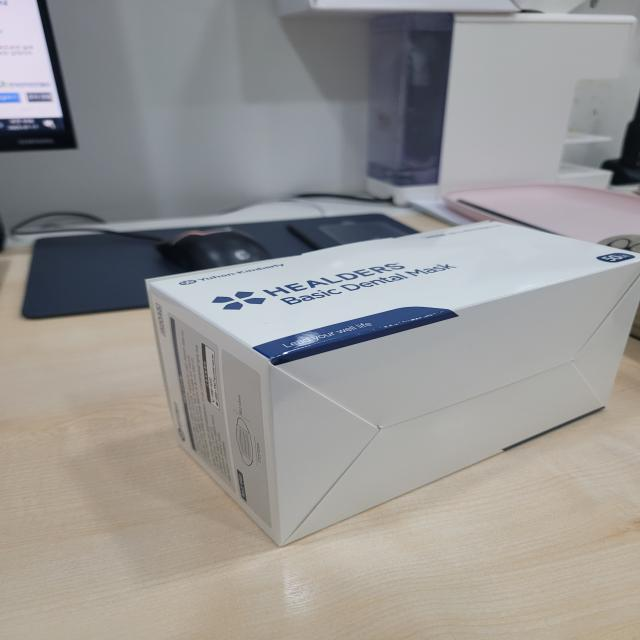mask: (132, 208, 640, 552)
